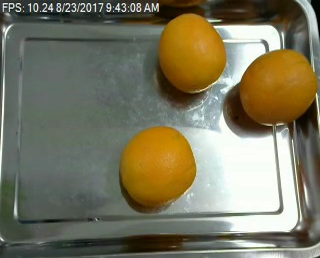Orange: (238, 47, 318, 125), (119, 126, 196, 207), (157, 12, 224, 93)
